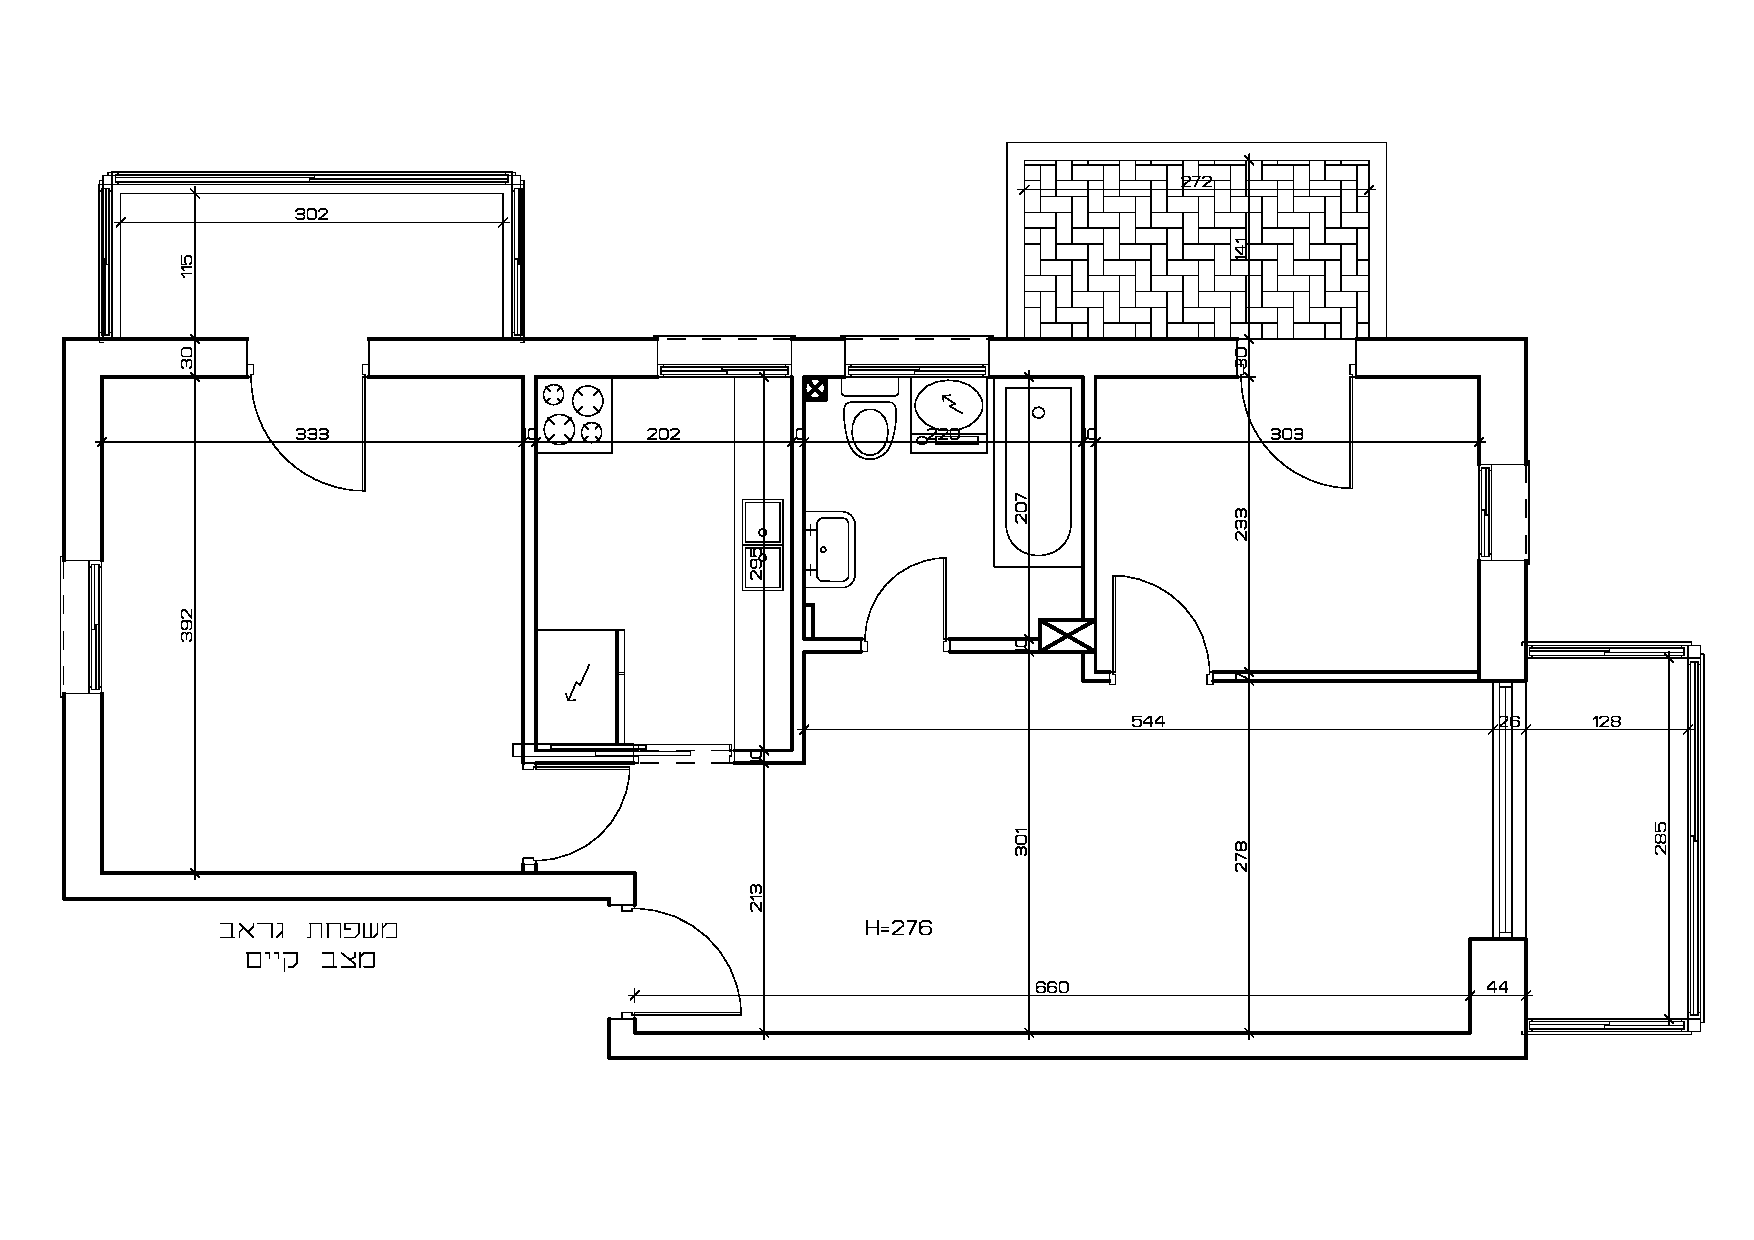door: (858, 501, 958, 631), (1113, 531, 1213, 662)
